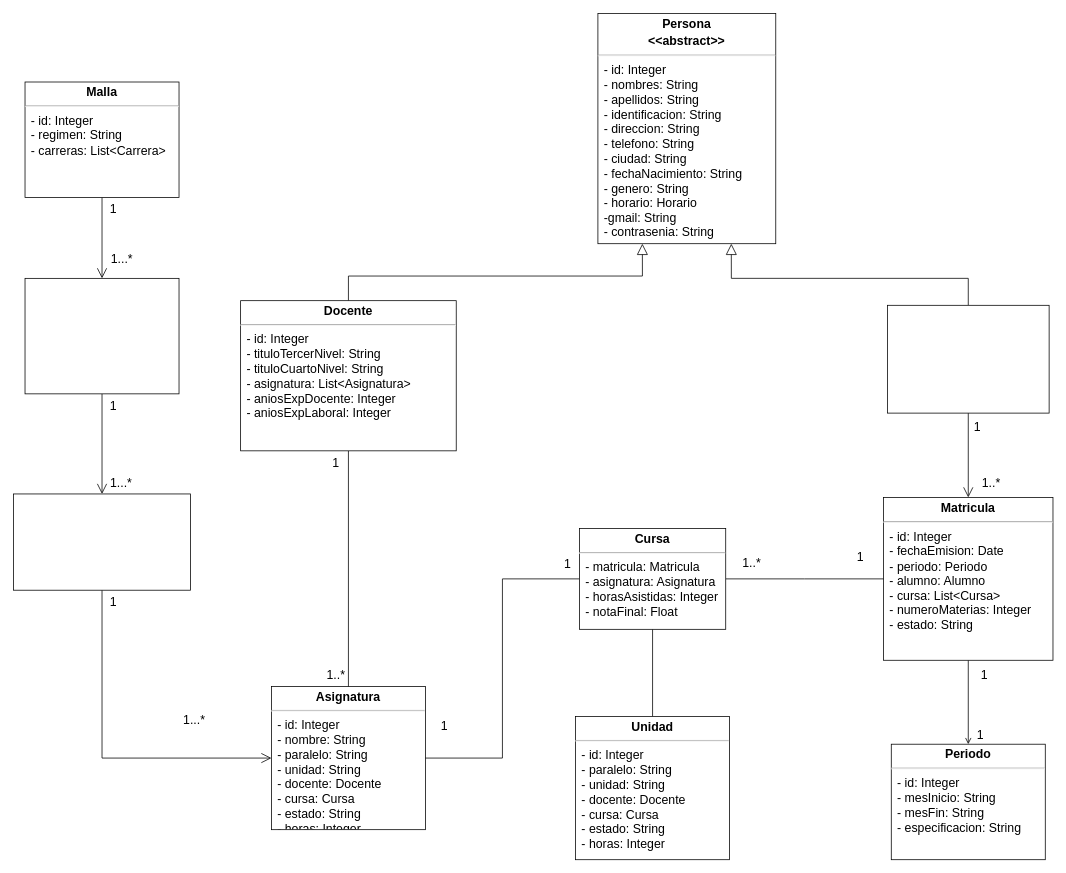
This 1066x873 diagram has some shape labels left out. Each missing label, with the box of its shape:
Alumno - id: Integer - matriculas: List<Matricula> - asistencia: String: (887, 305, 1049, 413)
Carrera - id: Integer - nombre: String - seccion: String - ciclos: List<Ciclo>: (24, 278, 179, 394)
Ciclo - id: Integer - nombre: String - asignatura: List<Asignatura>: (13, 493, 191, 590)
